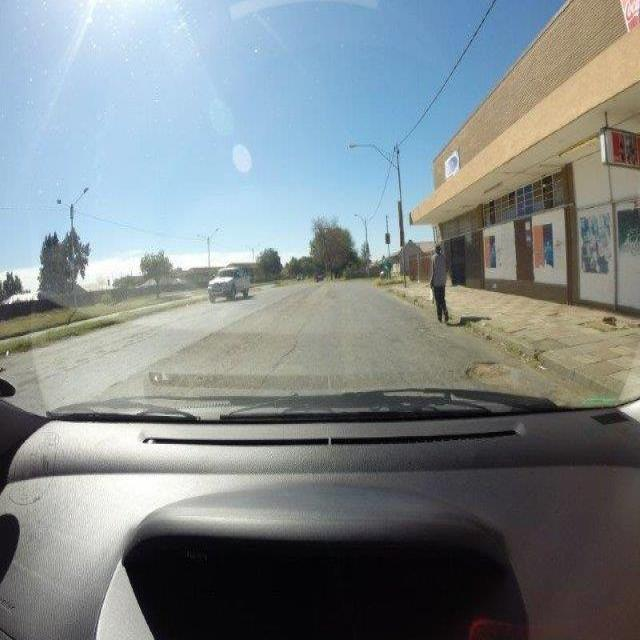lubang: (465, 359, 521, 389)
